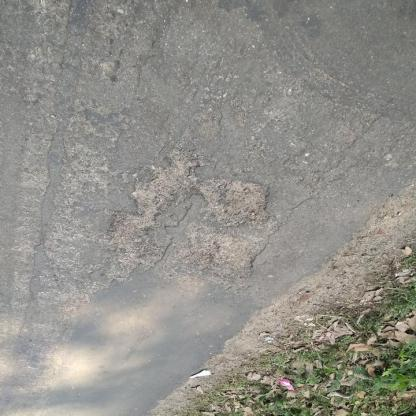pothole: (101, 148, 283, 288)
